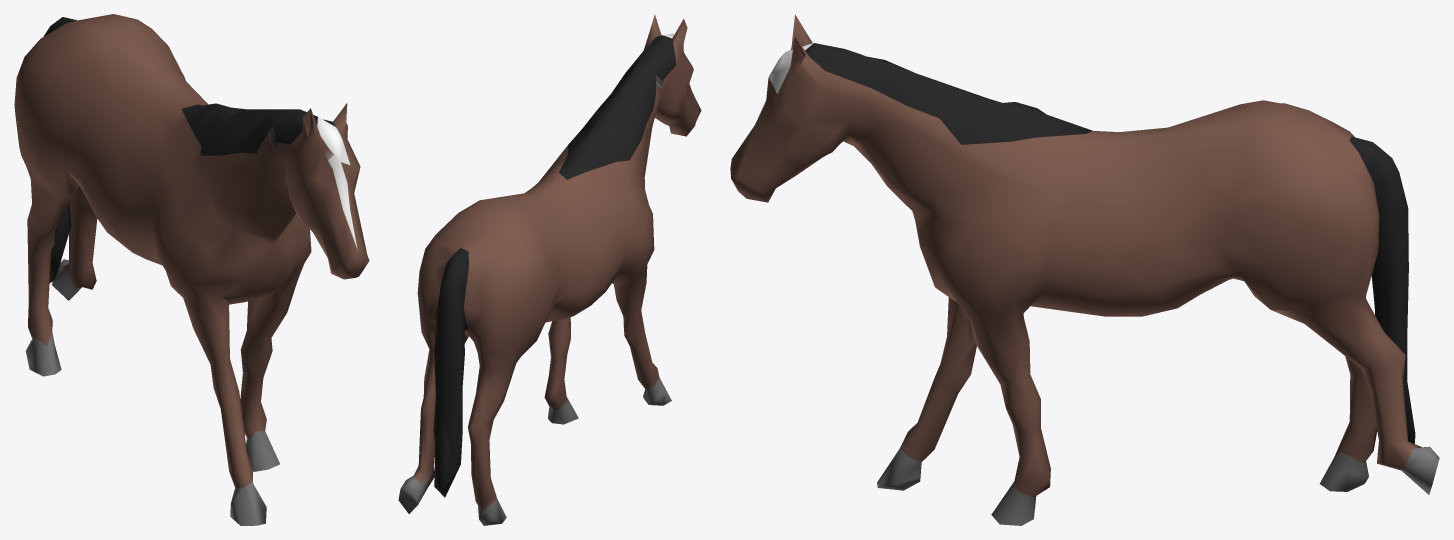
The model's file is horse_005.glb.
3 renders of one model, left to right at view 1: azimuth 30°, elevation 25°; view 2: azimuth 150°, elevation 25°; view 3: azimuth 270°, elevation 25°, orthographic. The views are drawn at different scales.
Parts seen in each view (by area): view 1: horse_005; view 2: horse_005; view 3: horse_005.
Boxes of the visible parts, <box> form: horse_005: <box>14,14,369,525</box>; horse_005: <box>398,14,701,525</box>; horse_005: <box>730,14,1439,525</box>.
Size of the model in its own units: 0.709 by 2.14 by 2.87.
1 material, 1 textured.
